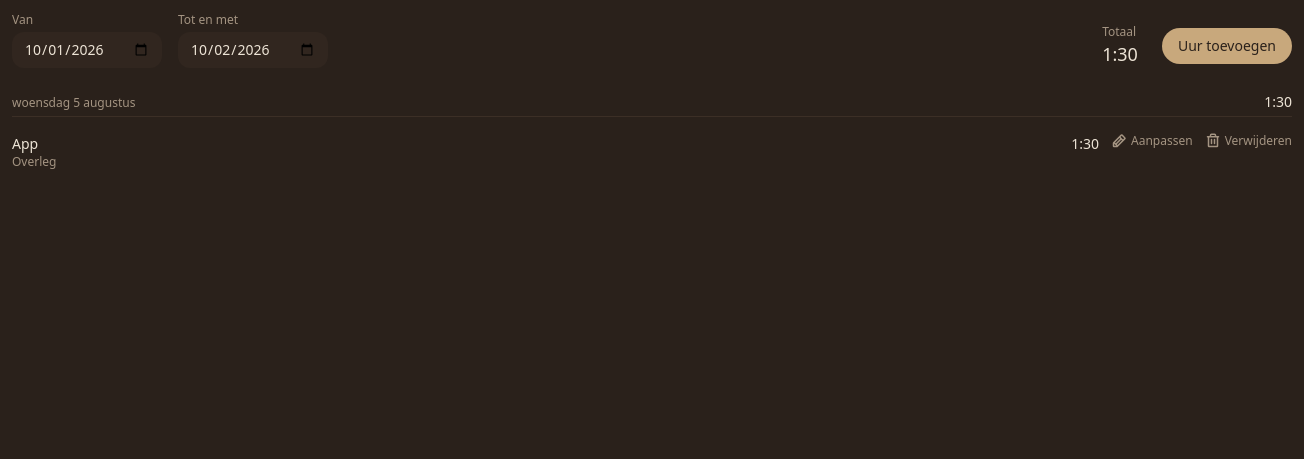
Test: correcting an entry › opens with what the entry already says
Step 1. Click the button "Aanpassen" → click(1152, 141), box [1111,133,1193,149]
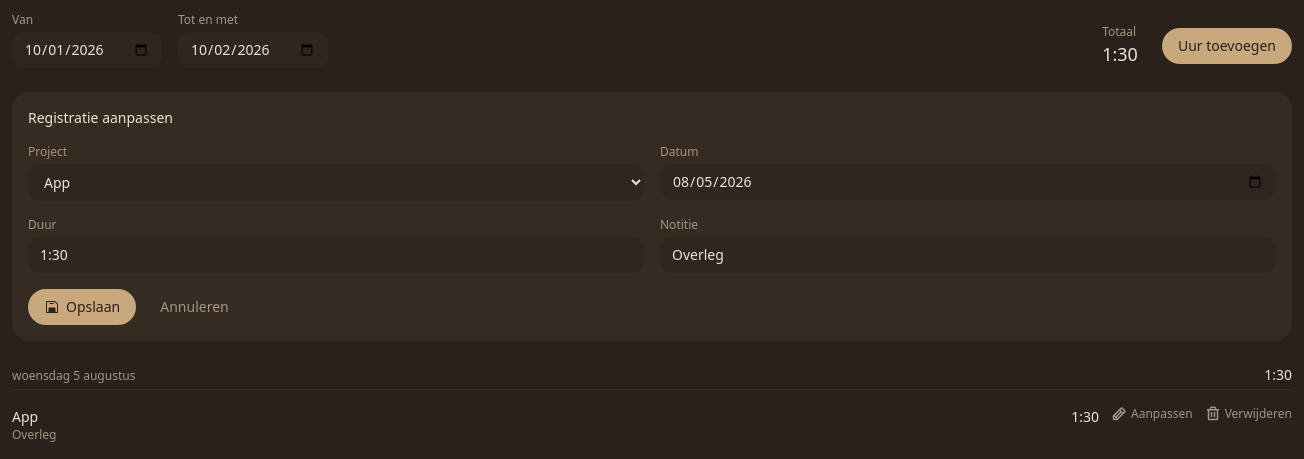
Result: the field labelled "Duur" holds "1:30" at [28,237,644,273]
Result: the dropdown labelled "Project" shows "App" at [28,164,644,201]
Result: the field labelled "Notitie" holds "Overleg" at [660,237,1276,273]
